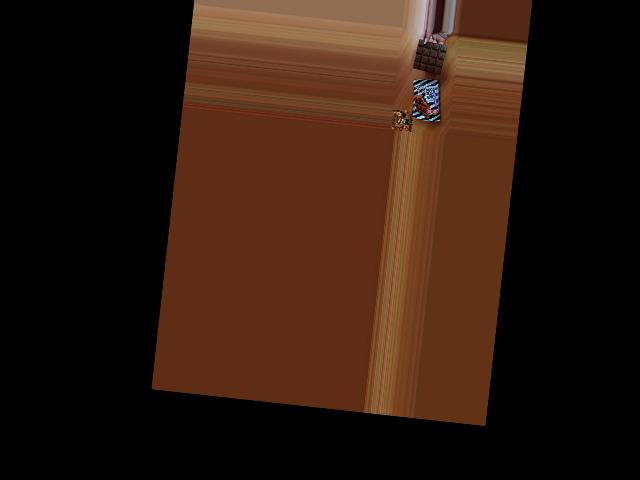chocolate: (410, 75, 444, 124)
